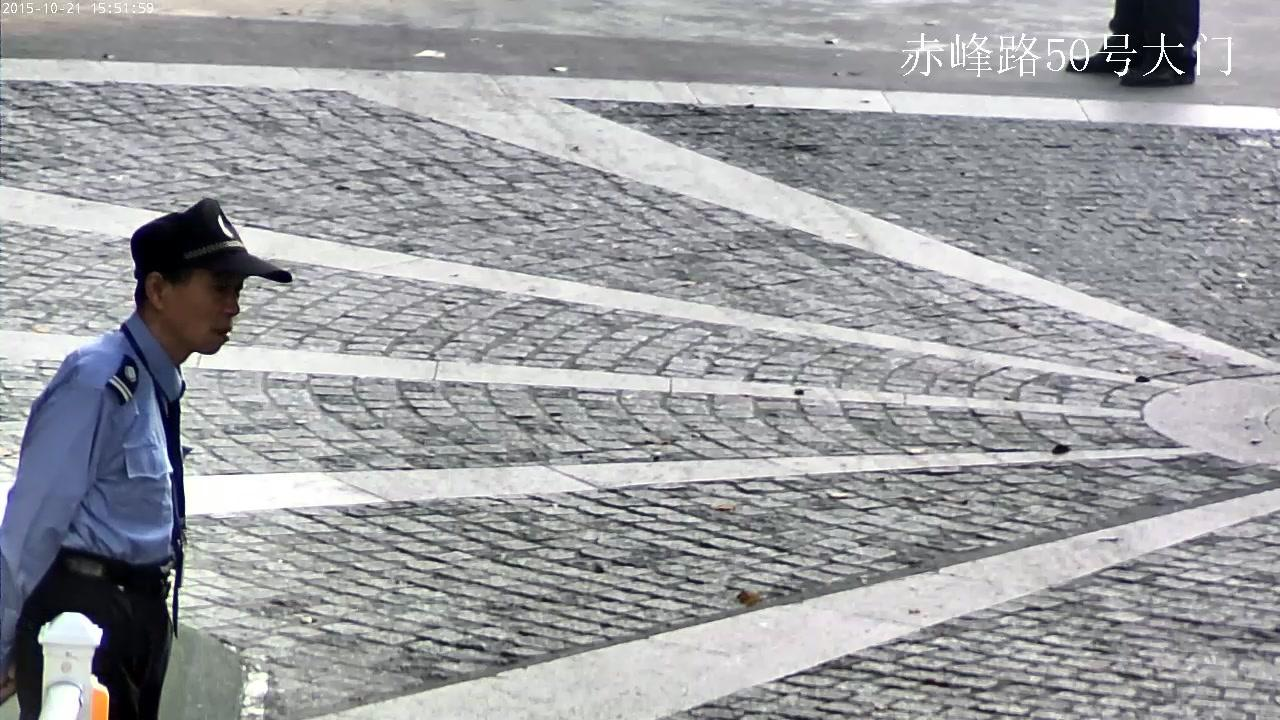face: (164, 269, 243, 355)
